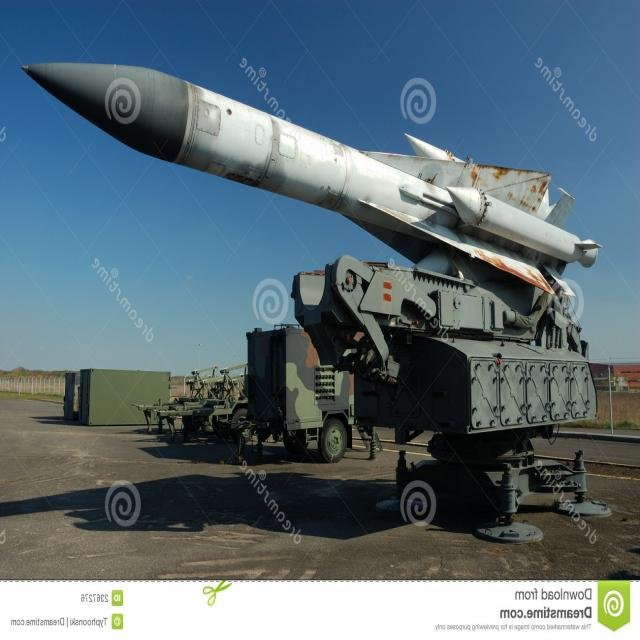rocket: (13, 55, 597, 295)
